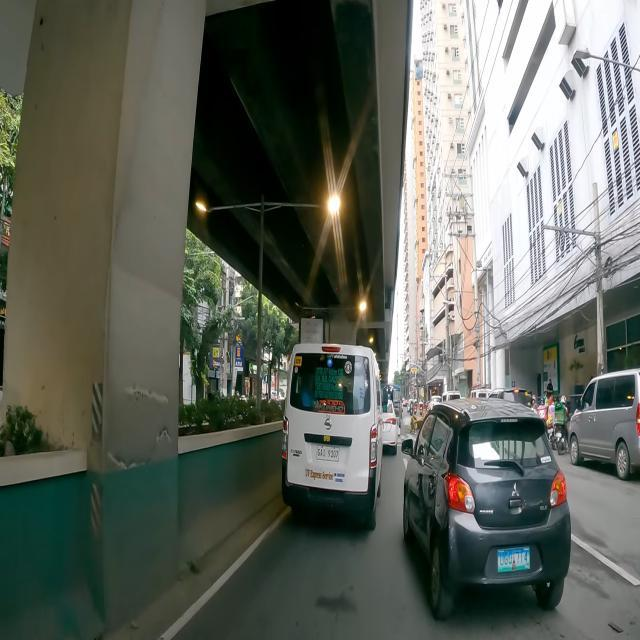car: (400, 397, 572, 616), (282, 344, 388, 530), (568, 368, 640, 482), (382, 399, 398, 456)
jeepney: (381, 383, 402, 436)
motorcycle: (554, 394, 570, 456), (547, 394, 559, 450), (537, 397, 547, 438), (426, 402, 428, 413)
